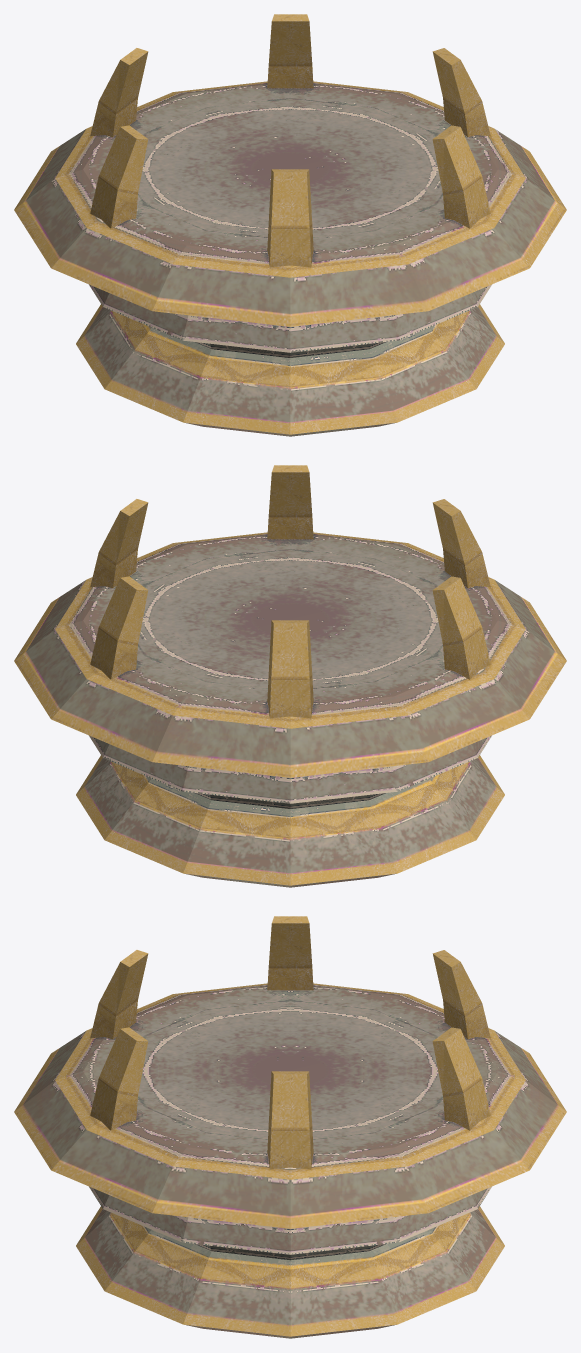
The model's file is mod_zlc_jianzhu016_xy.FBX.
3 views of the same model, one above another, from view 1: azimuth 30°, elevation 25°; view 2: azimuth 150°, elevation 25°; view 3: azimuth 270°, elevation 25° (orthographic).
Parts seen in each view (by area): view 1: mod_zlc_jianzhu016_xy; view 2: mod_zlc_jianzhu016_xy; view 3: mod_zlc_jianzhu016_xy.
Boxes of the visible parts, left/top/right/bottom form: mod_zlc_jianzhu016_xy: left=14, top=14, right=566, bottom=436; mod_zlc_jianzhu016_xy: left=14, top=465, right=566, bottom=887; mod_zlc_jianzhu016_xy: left=14, top=916, right=566, bottom=1338.
Size of the model in its own units: 519 by 279 by 519.
Materials: 1 (1 with a texture image).
